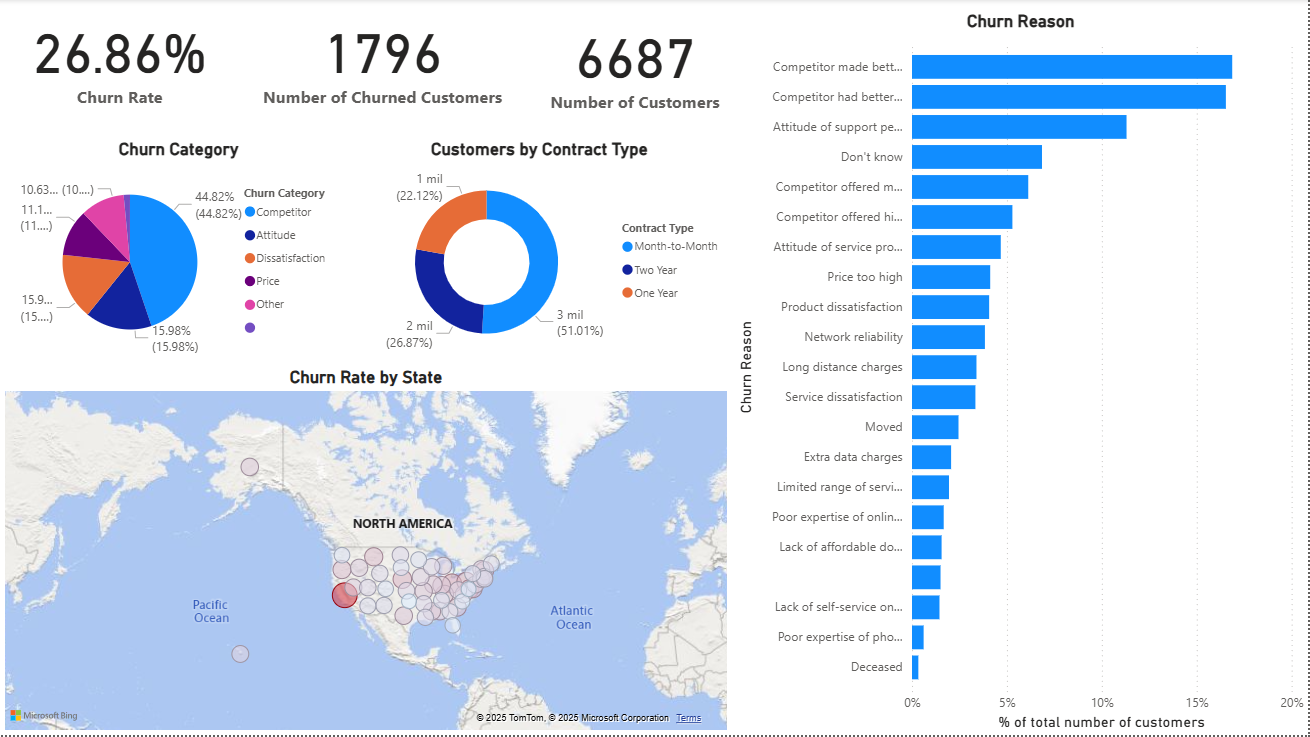

What the dashboard file says about the page in this screenshot:
{"tool":"powerbi","page":{"name":"Overview","canvas":[1280,720],"ordinal":0},"visuals":[{"type":"card","fields":{"Values":["Databel - Data.Churn Rate"]},"box":[9.2,6.6,215.4,101.7],"z":0},{"type":"card","fields":{"Values":["Databel - Data.Number of Customers"]},"box":[527.5,11.2,188.6,102.3],"z":1000},{"type":"card","fields":{"Values":["Databel - Data.Number of Churned Customers"]},"box":[246.2,6.4,257.3,102.3],"z":2000},{"type":"clusteredBarChart","title":"Churn Reason","fields":{"Y":["Databel - Data.Number of Customers"],"Category":["Databel - Data.Churn Reason"]},"box":[716.1,10.6,564.2,709.5],"z":3000},{"type":"map","title":"Churn Rate by State","fields":{"Category":["Databel - Data.State"],"Size":["Databel - Data.Churn Rate"]},"box":[0,359.4,716.1,360.7],"z":4000},{"type":"pieChart","title":"Churn Category","fields":{"Category":["Databel - Data.Churn Category"],"Y":["Divide(CountNonNull(Databel - Data.Churn Label), ScopedEval(CountNonNull(Databel - Data.Churn Label), []))"]},"box":[10.6,137.4,327.7,222],"z":5000},{"type":"donutChart","title":"Customers by Contract Type","fields":{"Y":["Databel - Data.Number of Customers"],"Category":["Databel - Data.Contract Type"]},"box":[338.2,137.4,377.9,222],"z":6000}]}

Visuals, with their boxes in screenshot pixels (x1, y1, x2, y2), scaled from the page's 1280x720 canvas onto the 1310x737 screenshot:
card - Databel - Data.Churn Rate: <region>9, 7, 230, 111</region>
card - Databel - Data.Number of Customers: <region>540, 11, 733, 116</region>
card - Databel - Data.Number of Churned Customers: <region>252, 7, 515, 111</region>
"Churn Reason" clusteredBarChart: <region>733, 11, 1309, 736</region>
"Churn Rate by State" map: <region>0, 368, 733, 736</region>
"Churn Category" pieChart: <region>11, 141, 346, 368</region>
"Customers by Contract Type" donutChart: <region>346, 141, 733, 368</region>
